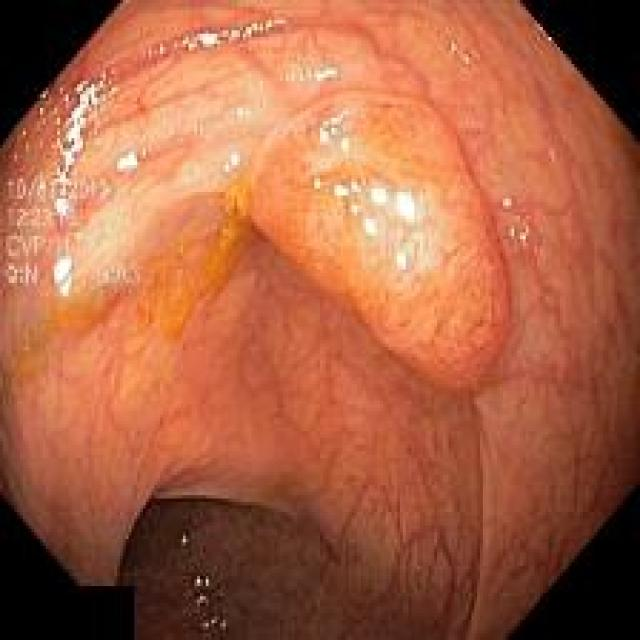Polyps: (250, 91, 509, 394)
